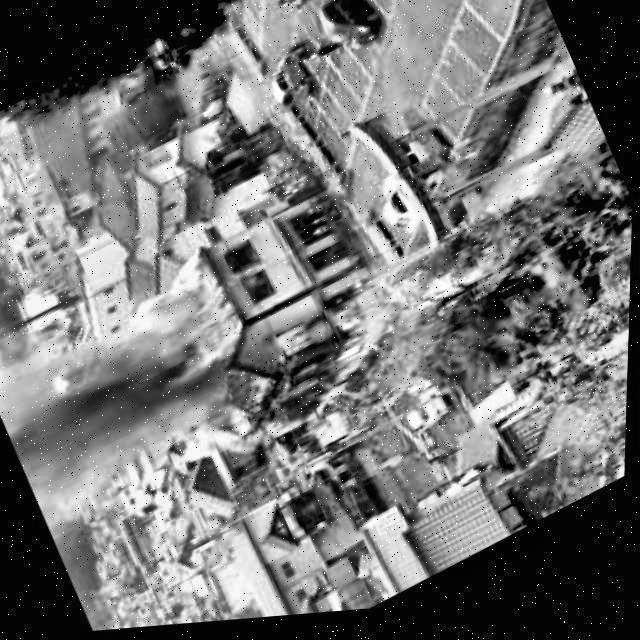Fire: (228, 293, 392, 429), (241, 268, 281, 313)
Smoke: (0, 247, 280, 536)
